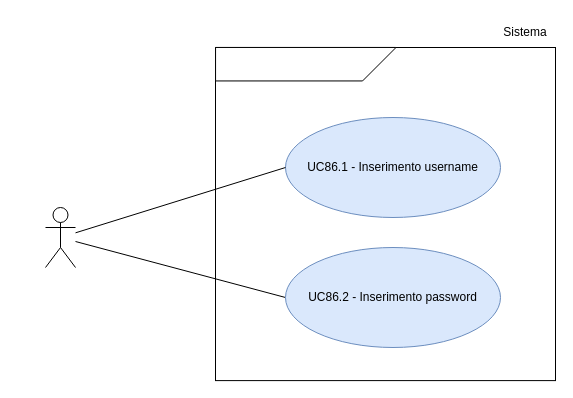
Some shapes in this 573 by 398 pixel diagram are drawn without their labels. The centre of each missing label's shape, as x and y in pixels:
UC86 - Autenticazione: point 305,63
Utente non riconosciuto: point 60,237
